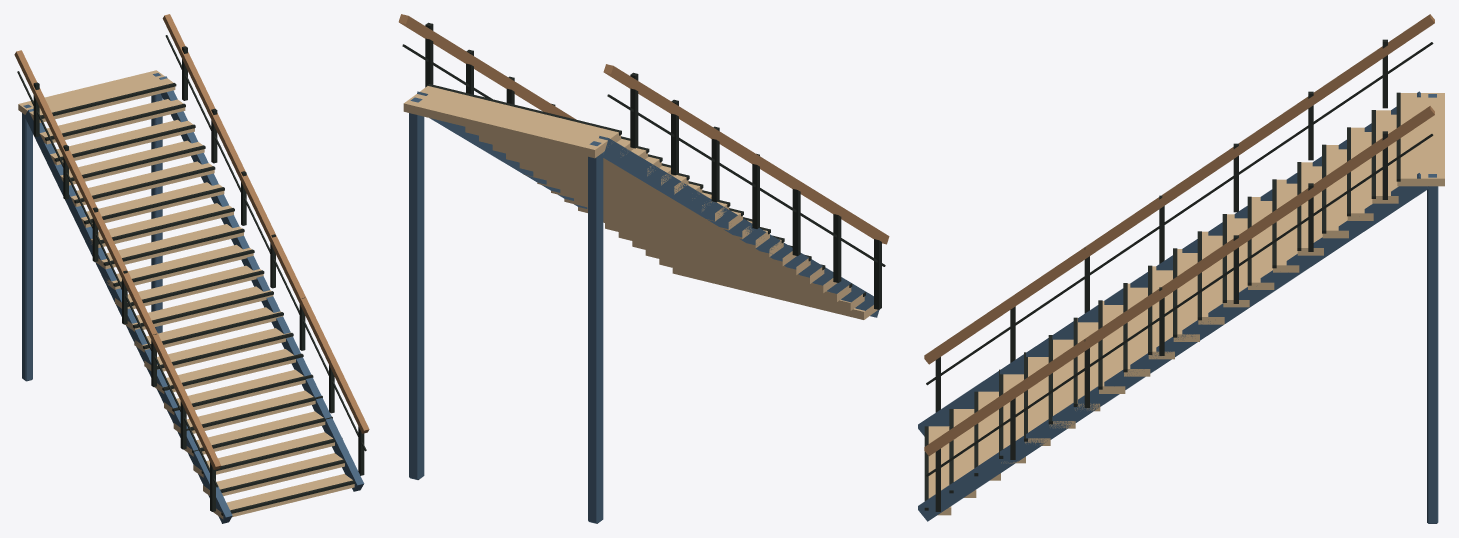
Rendered from gh_stairs_v01.glb.
The picture shows the model from 3 angles, left to right: view 1: azimuth 30°, elevation 25°; view 2: azimuth 150°, elevation 25°; view 3: azimuth 270°, elevation 25°; orthographic projection. The views are drawn at different scales.
Visible parts, largest first — view 1: Industrial stair flight; view 2: Industrial stair flight; view 3: Industrial stair flight.
Boxes of the visible parts, bbox=[...] form: Industrial stair flight: bbox=[14, 14, 369, 523]; Industrial stair flight: bbox=[398, 14, 889, 523]; Industrial stair flight: bbox=[918, 14, 1444, 523].
Size of the model in its own units: 2.95 by 6.07 by 6.89.
1 material, 1 textured.
